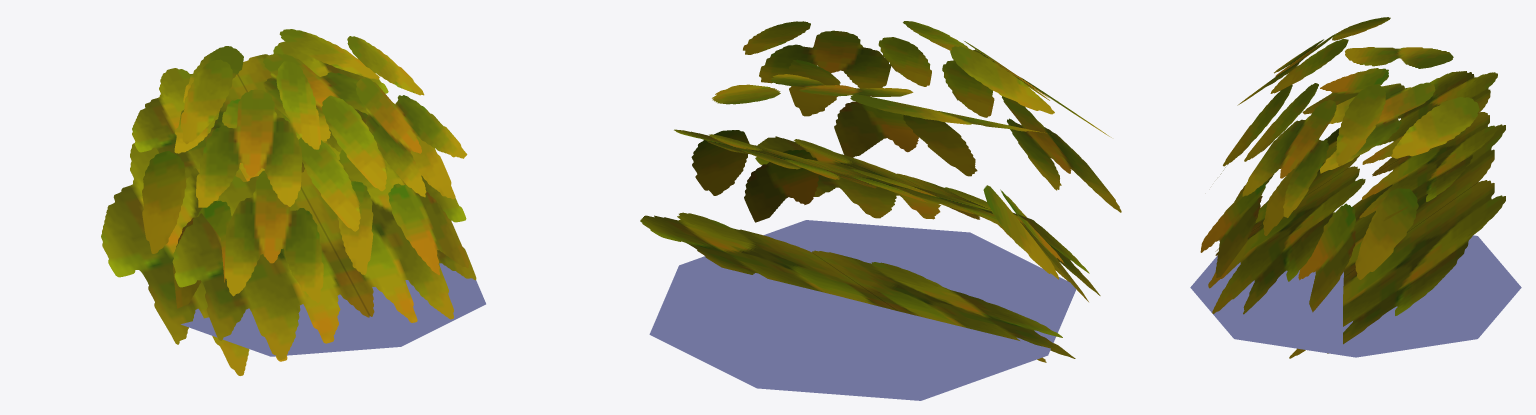
Rendered from fg_bushE_2_n.fbx.
3 views of the same model, side by side, from view 1: azimuth 30°, elevation 25°; view 2: azimuth 150°, elevation 25°; view 3: azimuth 270°, elevation 25° (orthographic). The views are drawn at different scales.
Parts seen in each view (by area): view 1: fg_bushE_2_n, sdw_circle; view 2: fg_bushE_2_n, sdw_circle; view 3: fg_bushE_2_n, sdw_circle.
Part boxes in pixels (<box>): fg_bushE_2_n: <box>101,29,476,375</box>; sdw_circle: <box>181,263,485,356</box>; fg_bushE_2_n: <box>640,21,1121,362</box>; sdw_circle: <box>649,220,1076,400</box>; fg_bushE_2_n: <box>1200,17,1505,358</box>; sdw_circle: <box>1190,235,1521,357</box>.
Size of the model in its own units: 0.1589 by 0.1096 by 0.1188.
